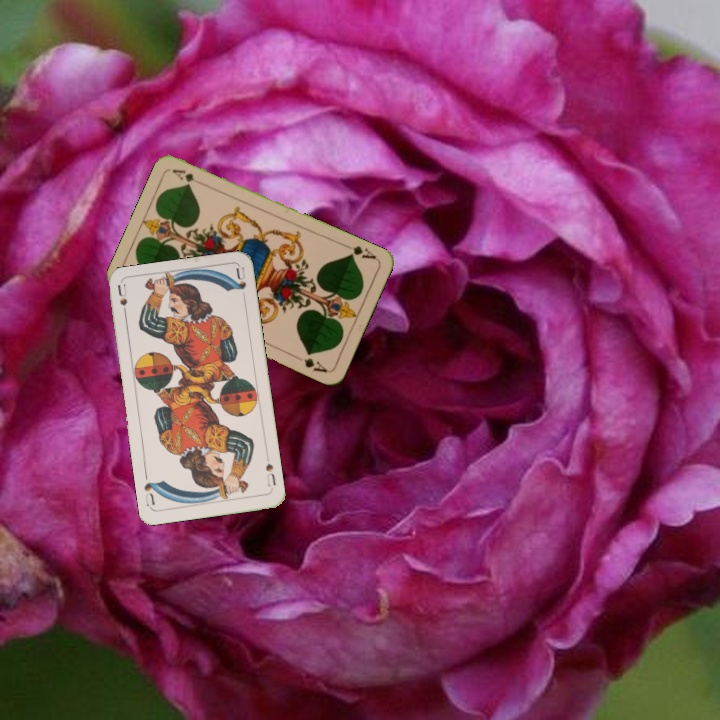GA: (341, 241, 379, 263)
SU: (114, 281, 130, 322), (261, 452, 278, 489)
